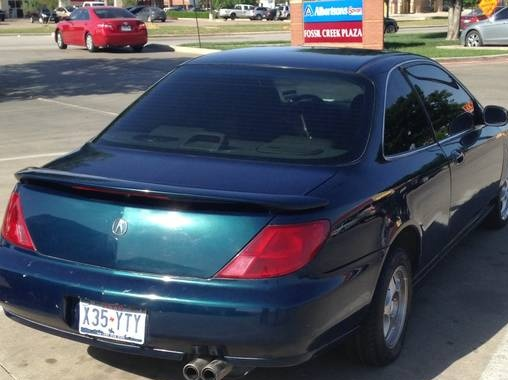acura: (1, 50, 508, 368)
